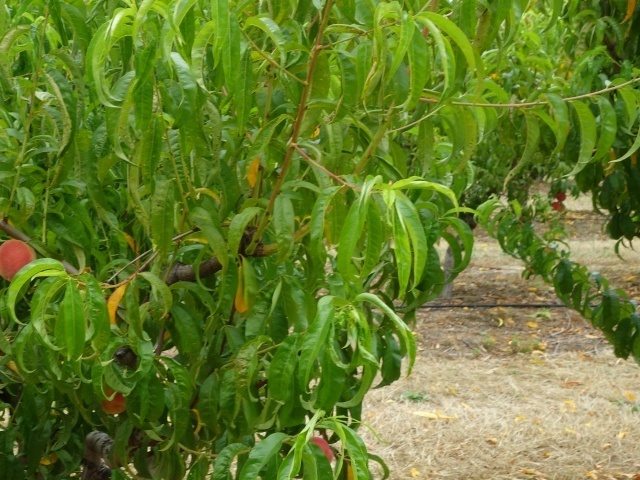peach: (1, 234, 40, 286), (304, 431, 336, 465), (98, 381, 128, 417)
